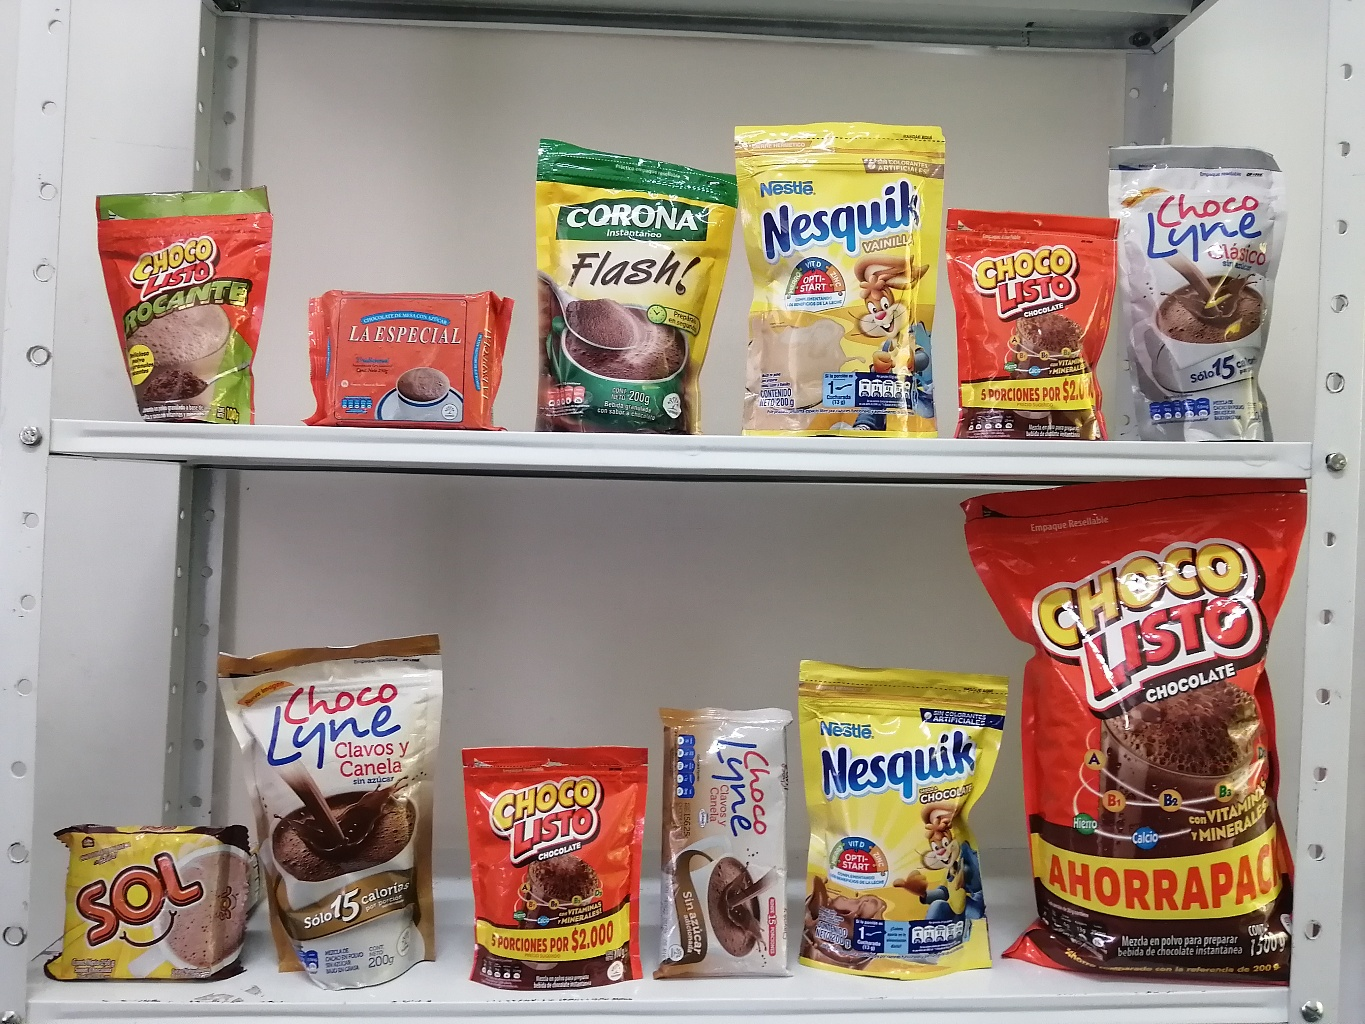COL0170102DYP10000: (77, 162, 283, 442)
COL0170103DYP1,500: (938, 464, 1327, 986)
COL0170303DYP20000: (779, 635, 1010, 986)
COL0170306DYP20000: (717, 99, 949, 439)
